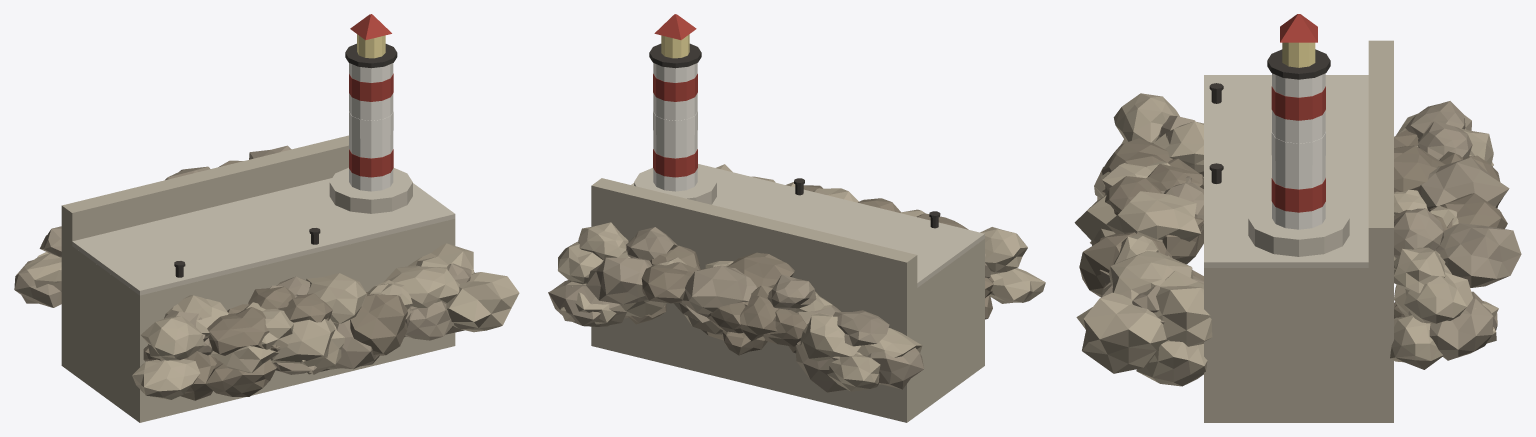
Rendered from mendirek-ucu.glb.
3 views of the same model, side by side, from view 1: azimuth 30°, elevation 25°; view 2: azimuth 150°, elevation 25°; view 3: azimuth 270°, elevation 25° (orthographic). The views are drawn at different scales.
Parts seen in each view (by area): view 1: beton2, beton, kaya2, kaya3, kaya, beyaz, kirmizi, demir, isik; view 2: beton2, kaya, kaya2, beton, kaya3, beyaz, kirmizi, demir, isik; view 3: beton2, kaya2, beton, kaya, kaya3, beyaz, kirmizi, demir, isik.
Part boxes in pixels (x1,y1,x2,y2): beton2: (61,135,455,422); beton: (72,167,455,295); kaya2: (24,243,519,399); kaya3: (143,160,407,400); kaya: (14,145,474,374); beyaz: (349,63,393,191); kirmizi: (349,14,393,177); demir: (174,43,397,277); isik: (357,34,385,58); beton2: (591,178,984,422); kaya: (548,227,990,392); kaya2: (558,164,1045,391); beton: (631,164,984,287); kaya3: (628,185,993,355); beyaz: (653,63,697,191); kirmizi: (653,14,697,177); demir: (649,43,940,228); isik: (661,34,689,58); beton2: (1204,40,1393,422); kaya2: (1074,93,1498,386); beton: (1204,75,1368,267); kaya: (1090,101,1521,360); kaya3: (1079,129,1507,318); beyaz: (1271,73,1325,229); kirmizi: (1271,14,1325,212); demir: (1209,49,1330,183); isik: (1282,42,1315,67).
Bounding box in the file's own units: 16.45 × 13.3 × 14.12.
